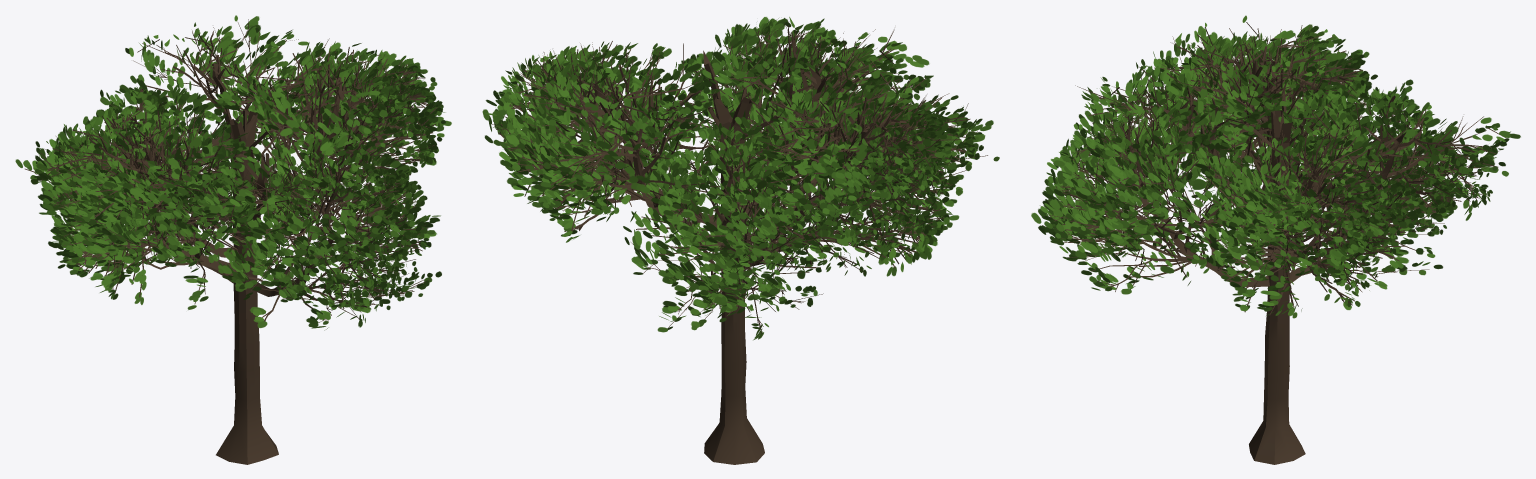
3 views of the same model, side by side, from view 1: azimuth 30°, elevation 25°; view 2: azimuth 150°, elevation 25°; view 3: azimuth 270°, elevation 25° (orthographic). The views are drawn at different scales.
Parts seen in each view (by area): view 1: oak 01.001_trunk_Mat.001_0.100; view 2: oak 01.001_trunk_Mat.001_0.100; view 3: oak 01.001_trunk_Mat.001_0.100.
Part boxes in pixels (x1=…): oak 01.001_trunk_Mat.001_0.100: x1=15, y1=15, x2=451, y2=464; oak 01.001_trunk_Mat.001_0.100: x1=482, y1=17, x2=999, y2=464; oak 01.001_trunk_Mat.001_0.100: x1=1031, y1=15, x2=1520, y2=464.
Bounding box in the file's own units: 5.82 × 4.71 × 5.96.
2 materials, 1 textured.
